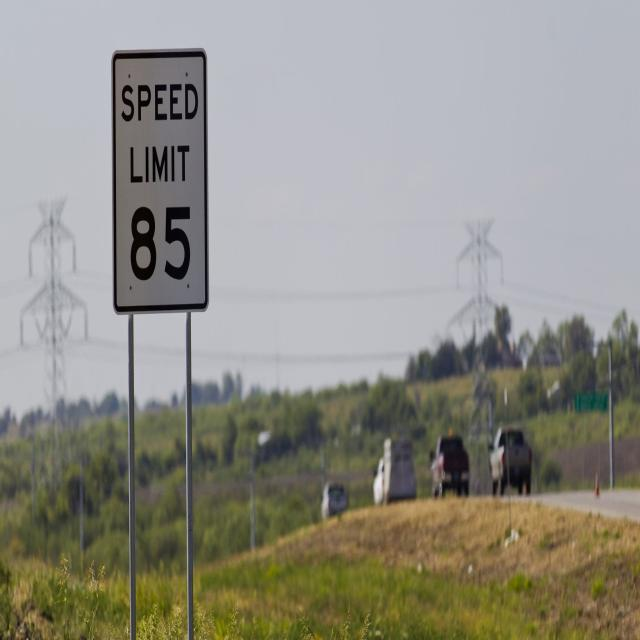speedLimit85: (106, 50, 209, 321)
